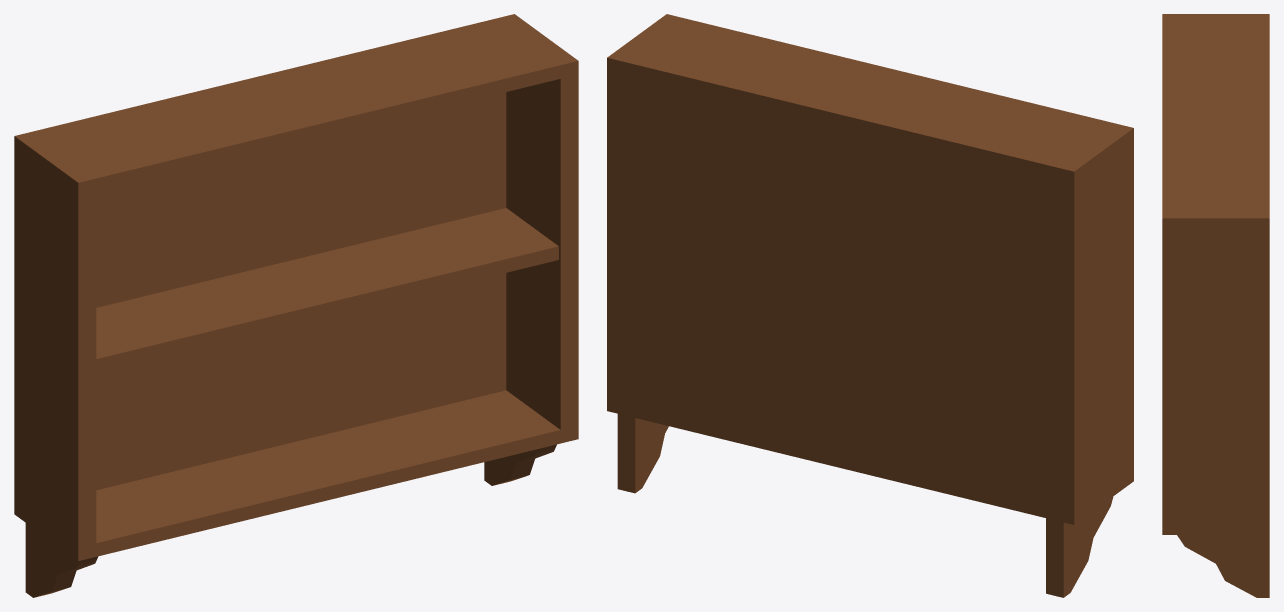
Rendered from 05_furniture_bookshelf.FBX.
3 views of the same model, side by side, from view 1: azimuth 30°, elevation 25°; view 2: azimuth 150°, elevation 25°; view 3: azimuth 270°, elevation 25° (orthographic). The views are drawn at different scales.
Parts seen in each view (by area): view 1: furniture_bookshelf; view 2: furniture_bookshelf; view 3: furniture_bookshelf.
Part boxes in pixels (bbox=[...]): furniture_bookshelf: bbox=[14, 14, 578, 597]; furniture_bookshelf: bbox=[607, 14, 1133, 597]; furniture_bookshelf: bbox=[1162, 14, 1269, 597].
Size of the model in its own units: 73.99 by 64.9 by 16.39.
